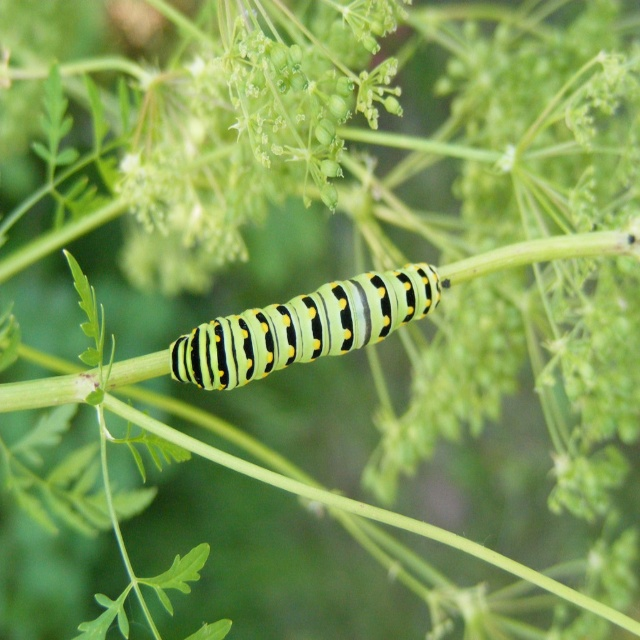Caterpillar: (170, 256, 444, 389)
